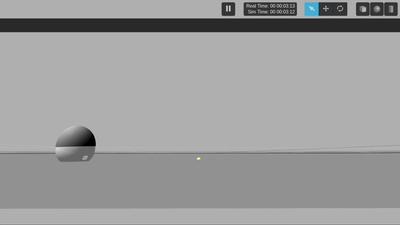mira_robot: (55, 125, 96, 162)
